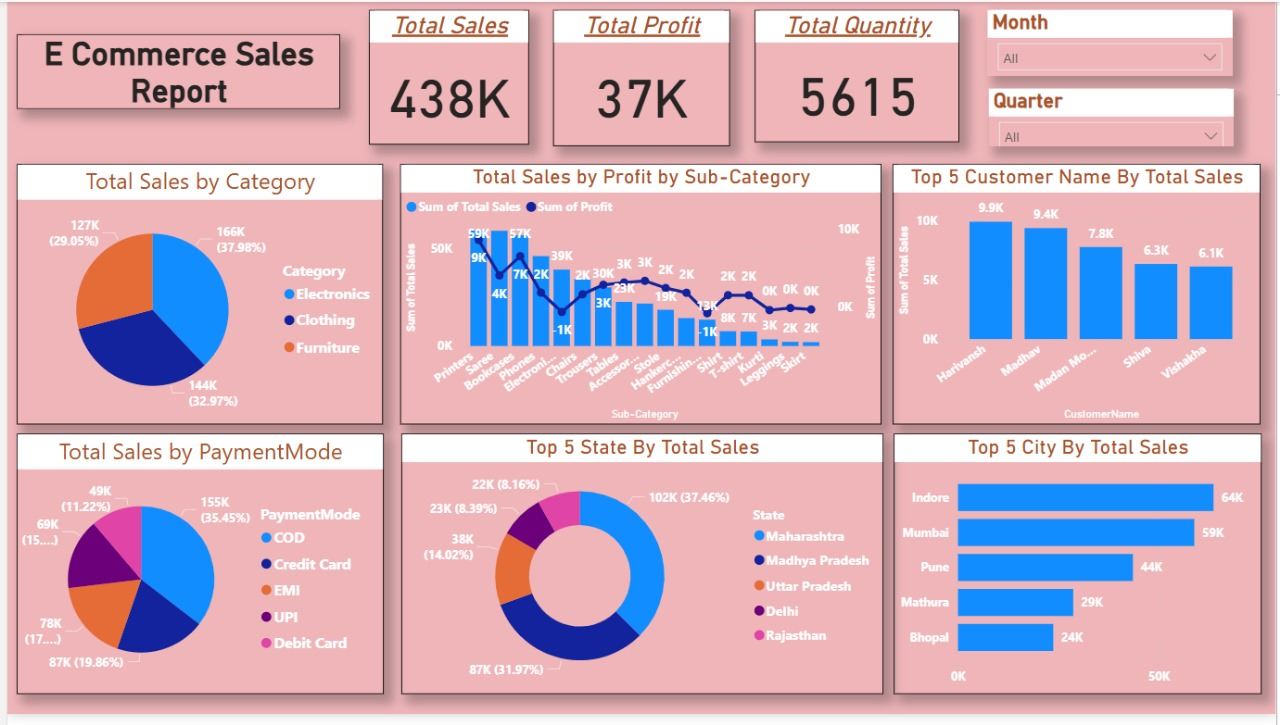

The page's visual inventory and layout, read from the dashboard file:
{"tool":"powerbi","page":{"name":"Page 1","canvas":[1280,720],"ordinal":0},"visuals":[{"type":"card","title":"Total Sales","fields":{"Values":["E Commerce Data.Total Sales"]},"box":[364.3,8.1,161.9,136.3],"z":1},{"type":"card","title":"Total Profit","fields":{"Values":["E Commerce Data.Profit"]},"box":[550.4,8.1,178.1,137.6],"z":2},{"type":"card","title":"Total Quantity","fields":{"Values":["E Commerce Data.Quantity"]},"box":[754.1,8.1,206.4,133.6],"z":3},{"type":"slicer","title":"Month","fields":{"Values":["Orders.Order Date.Variation.Date Hierarchy.Month"]},"box":[988.9,8.1,246.9,66.1],"z":4},{"type":"slicer","title":"Quarter ","fields":{"Values":["Orders.Order Date.Variation.Date Hierarchy.Quarter"]},"box":[990.2,87.7,246.9,58],"z":5},{"type":"pieChart","title":"Total Sales by Category","fields":{"Y":["E Commerce Data.Total Sales"],"Category":["E Commerce Data.Category"]},"box":[9.4,163.2,369.6,263.1],"z":6},{"type":"lineStackedColumnComboChart","title":" Total Sales by Profit by Sub-Category","fields":{"Y":["E Commerce Data.Total Sales"],"Category":["E Commerce Data.Sub-Category"],"Y2":["E Commerce Data.Profit"]},"box":[396.6,163.2,485.7,263.1],"z":7},{"type":"lineClusteredColumnComboChart","title":"Top 5 Customer Name By Total Sales","fields":{"Category":["Orders.CustomerName"],"Y":["E Commerce Data.Total Sales"]},"box":[893.1,163.2,371,263.1],"z":8},{"type":"pieChart","title":"Total Sales by PaymentMode","fields":{"Y":["E Commerce Data.Total Sales"],"Category":["E Commerce Data.PaymentMode"]},"box":[9,436,370,263],"z":9},{"type":"donutChart","title":"Top 5 State By Total Sales ","fields":{"Category":["Orders.State"],"Y":["E Commerce Data.Total Sales"]},"box":[397,436,486,263],"z":10},{"type":"clusteredBarChart","title":"Top 5 City By Total Sales","fields":{"Category":["Orders.City"],"Y":["E Commerce Data.Total Sales"]},"box":[894.4,435.8,371,263.1],"z":11},{"type":"textbox","title":"E Commerce Sales Report","box":[9.4,32.4,326.5,75.5],"z":12}]}

Visuals, with their boxes in screenshot pixels (x1, y1, x2, y2), scaled from the page's 1280x720 canvas onto the 1280x725 screenshot:
"Total Sales" card: left=364, top=8, right=526, bottom=145
"Total Profit" card: left=550, top=8, right=728, bottom=147
"Total Quantity" card: left=754, top=8, right=960, bottom=143
"Month" slicer: left=989, top=8, right=1236, bottom=75
"Quarter " slicer: left=990, top=88, right=1237, bottom=147
"Total Sales by Category" pieChart: left=9, top=164, right=379, bottom=429
" Total Sales by Profit by Sub-Category" lineStackedColumnComboChart: left=397, top=164, right=882, bottom=429
"Top 5 Customer Name By Total Sales" lineClusteredColumnComboChart: left=893, top=164, right=1264, bottom=429
"Total Sales by PaymentMode" pieChart: left=9, top=439, right=379, bottom=704
"Top 5 State By Total Sales " donutChart: left=397, top=439, right=883, bottom=704
"Top 5 City By Total Sales" clusteredBarChart: left=894, top=439, right=1265, bottom=704
"E Commerce Sales Report" textbox: left=9, top=33, right=336, bottom=109
